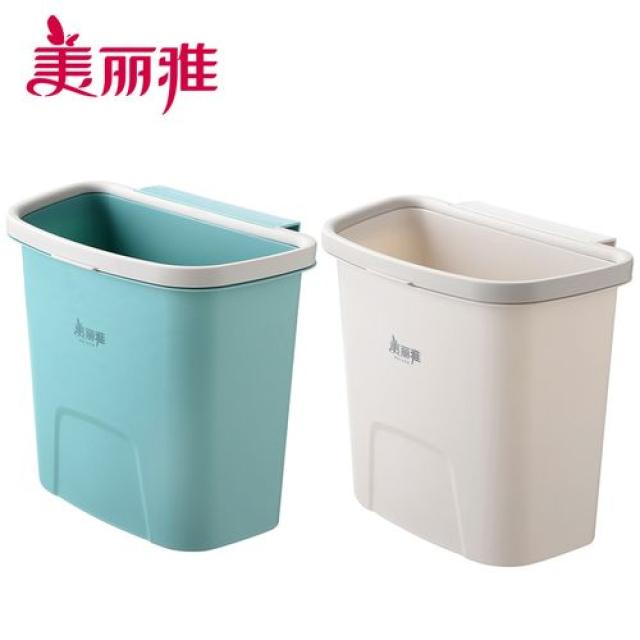dustbin: (316, 181, 640, 574), (3, 174, 321, 558)
